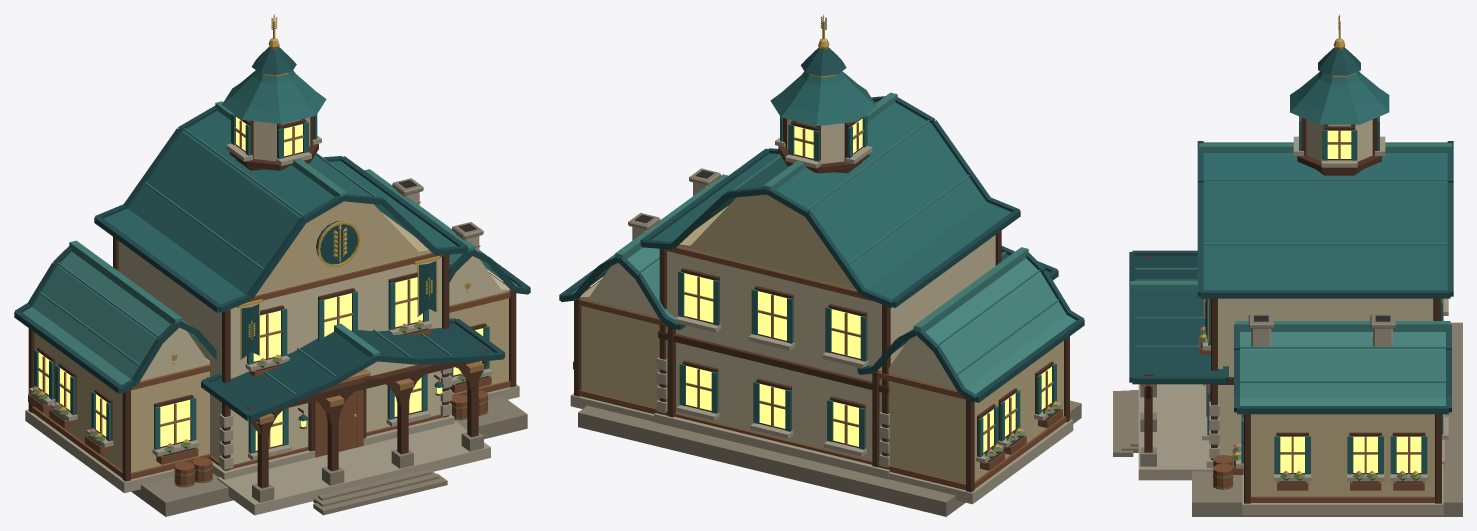
File: granary-hall.glb
3 views of the same model, side by side, from view 1: azimuth 30°, elevation 25°; view 2: azimuth 150°, elevation 25°; view 3: azimuth 270°, elevation 25° (orthographic).
Parts seen in each view (by area): view 1: granary-hall; view 2: granary-hall; view 3: granary-hall.
Part boxes in pixels (box(x1,y1,x2,y2)): granary-hall: box(14, 14, 530, 516); granary-hall: box(559, 14, 1084, 516); granary-hall: box(1113, 14, 1462, 516).
Bounding box in the file's own units: 13.95 × 13.12 × 10.07.
